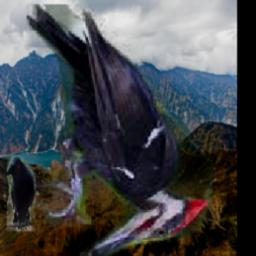Crow: (6, 156, 35, 232)
Woodpecker: (27, 5, 213, 256)
